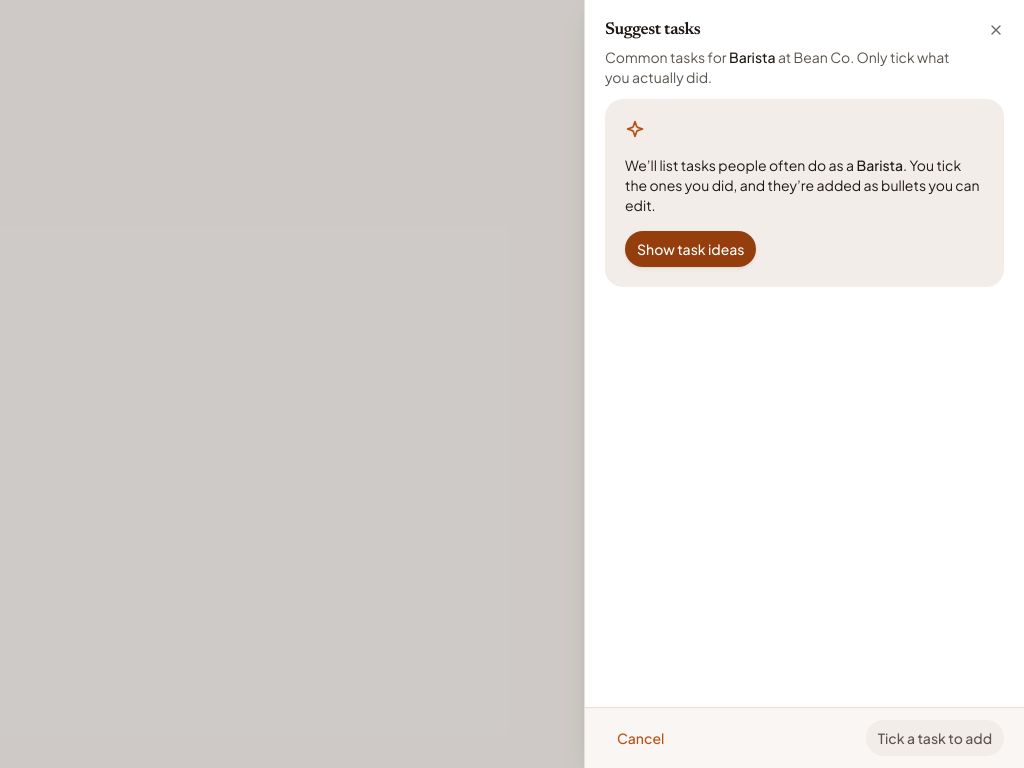
Test: SuggestTasksPanel › offers Try again after an error, and More ideas asks for a fresh batch
Click the button "Show task ideas" at x=691, y=249, box [625,231,756,267]
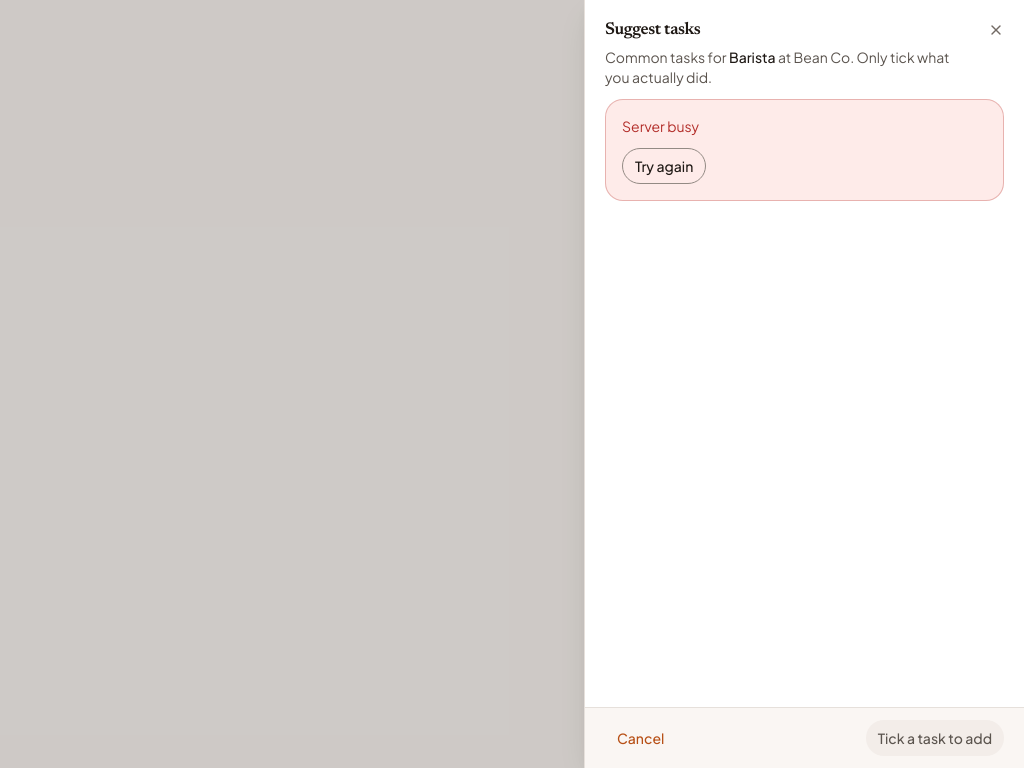
Click the button "Try again" at x=664, y=166, box [622,148,706,184]
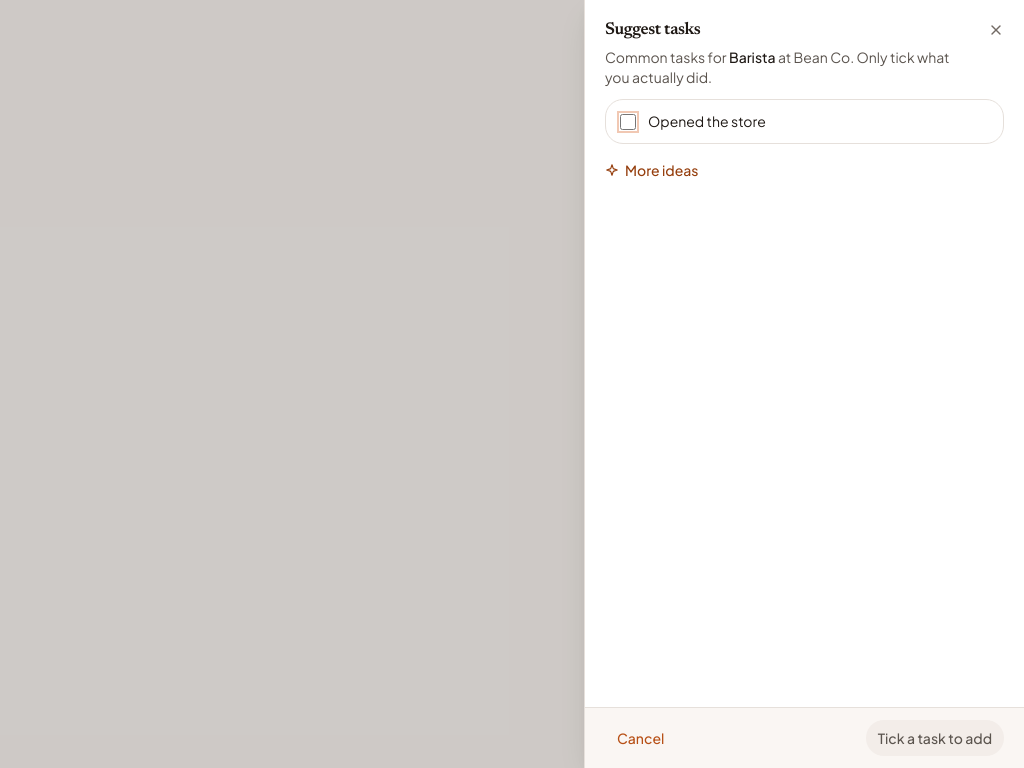
Check: the text "Opened the store" is shown, box [648,112,766,130]
Click the button "More ideas" at x=652, y=170, box [605,160,698,180]
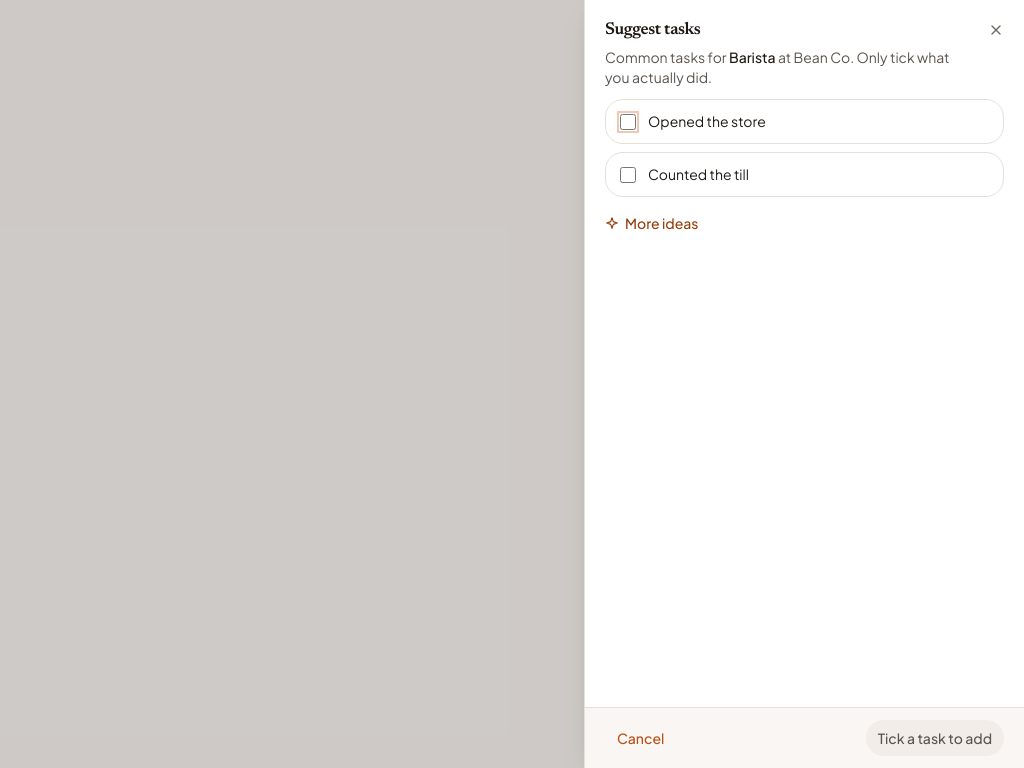
Check: the text "Counted the till" is shown, box [648,165,749,183]
